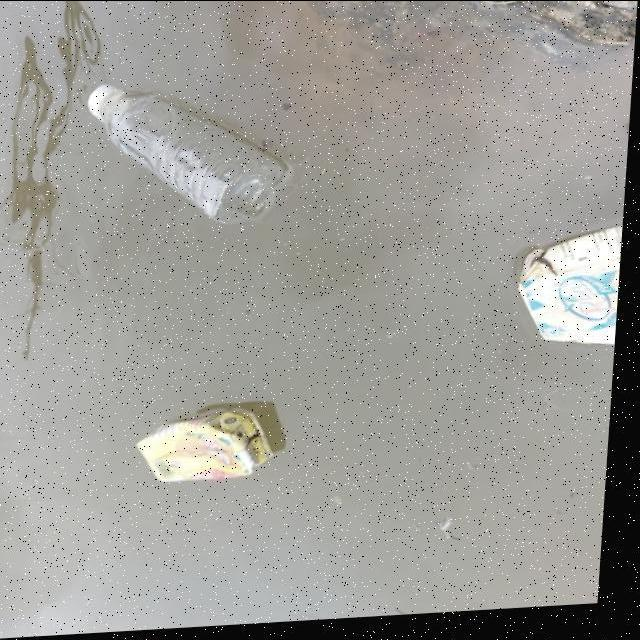Bottle: (82, 78, 288, 226)
Box: (509, 220, 624, 356), (133, 395, 277, 489)
